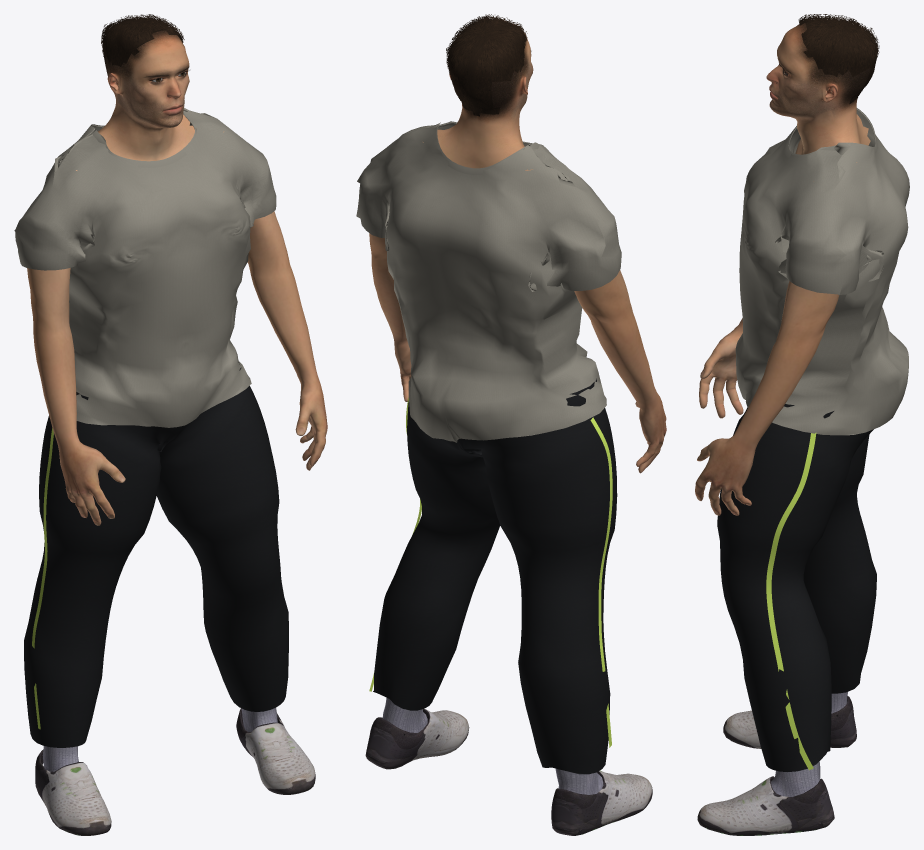
Rendered from avatar.glb.
3 views of the same model, side by side, from view 1: azimuth 30°, elevation 25°; view 2: azimuth 150°, elevation 25°; view 3: azimuth 270°, elevation 25° (orthographic). The views are drawn at different scales.
Visible parts, largest first — view 1: tee, jogger, body, shoes05, hair, jogger_passepoil, tee_col; view 2: tee, jogger, body, shoes05, hair, jogger_passepoil; view 3: tee, jogger, body, shoes05, hair, jogger_passepoil.
Part boxes in pixels (box(x1,y1,x2,y2)): tee: box(14, 107, 276, 427); jogger: box(24, 362, 288, 747); body: box(27, 30, 327, 525); shoes05: box(35, 707, 315, 835); hair: box(101, 14, 184, 66); jogger_passepoil: box(32, 428, 53, 729); tee_col: box(91, 113, 196, 167); tee: box(356, 121, 621, 442); jogger: box(373, 378, 617, 774); body: box(369, 20, 666, 473); shoes05: box(365, 698, 652, 835); hair: box(446, 14, 527, 116); jogger_passepoil: box(369, 398, 612, 747); tee: box(735, 108, 909, 435); jogger: box(717, 404, 876, 772); body: box(695, 23, 870, 515); shoes05: box(697, 692, 856, 835); hair: box(798, 14, 879, 103); jogger_passepoil: box(766, 432, 816, 770).
Size of the model in its own units: 0.6213 by 1.75 by 0.4441.
10 materials, 9 textured.
